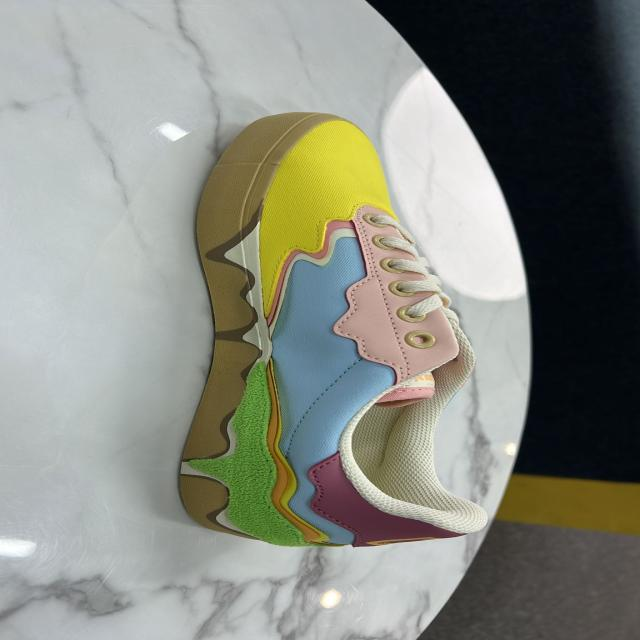shoe: (172, 110, 492, 550)
